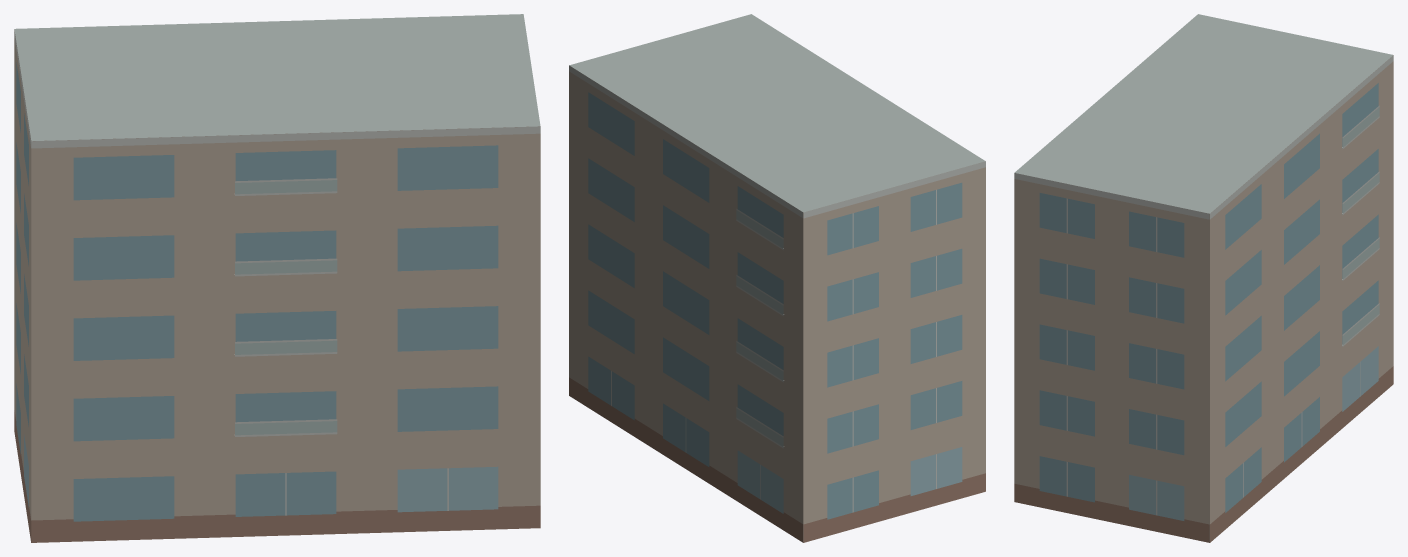
Rendered from survey-upis-32884299.glb.
3 views of the same model, side by side, from view 1: azimuth 30°, elevation 25°; view 2: azimuth 150°, elevation 25°; view 3: azimuth 270°, elevation 25° (orthographic). The views are drawn at different scales.
Visible parts, largest first — view 1: survey-upis-32884299.tmp; view 2: survey-upis-32884299.tmp; view 3: survey-upis-32884299.tmp.
Part boxes in pixels (x1=…): survey-upis-32884299.tmp: x1=14, y1=14, x2=540, y2=542; survey-upis-32884299.tmp: x1=569, y1=14, x2=985, y2=542; survey-upis-32884299.tmp: x1=1014, y1=14, x2=1393, y2=542.
Bounding box in the file's own units: 17.45 × 13.4 × 14.01.
